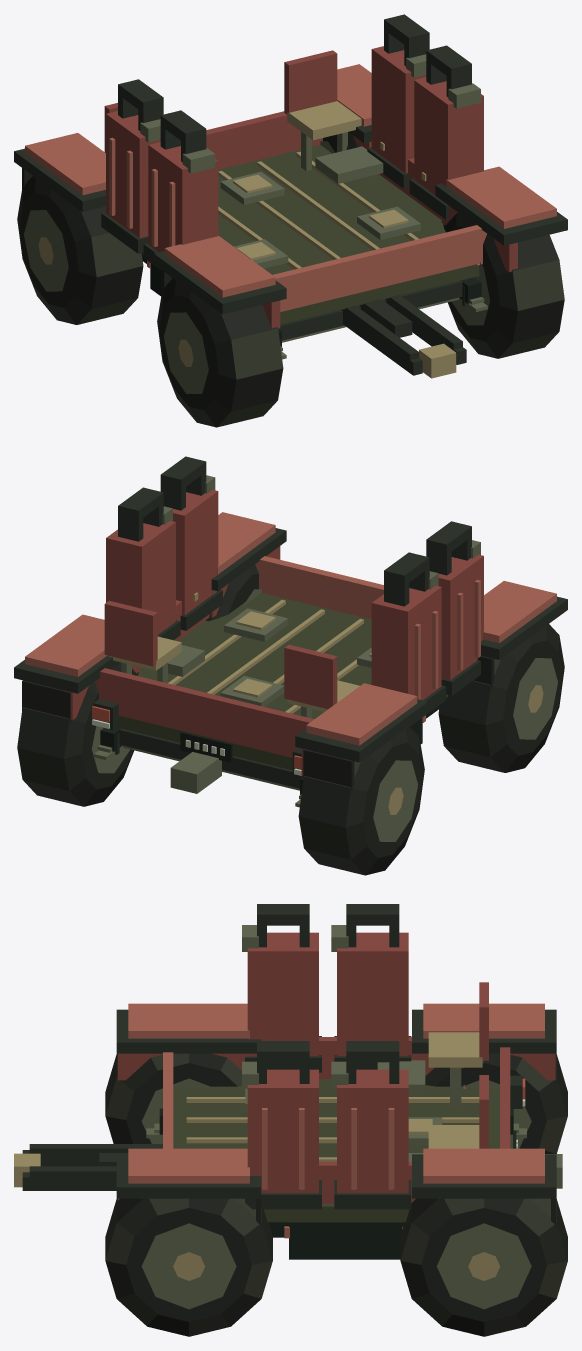
File: military_wagon_fuel.glb
3 renders of one model, top to bottom at view 1: azimuth 30°, elevation 25°; view 2: azimuth 150°, elevation 25°; view 3: azimuth 270°, elevation 25°, orthographic. The views are drawn at different scales.
Parts seen in each view (by area): view 1: WagonDeck.003, WagonDetails_fuel, AllTerrainTire.012, AllTerrainTire.014, AllTerrainTire.013, DrawbarFrame.003; view 2: WagonDeck.003, WagonDetails_fuel, AllTerrainTire.014, AllTerrainTire.012, AllTerrainTire.015, AllTerrainTire.013; view 3: WagonDeck.003, WagonDetails_fuel, AllTerrainTire.015, AllTerrainTire.013, AllTerrainTire.012, AllTerrainTire.014, DrawbarFrame.003.
Boxes of the visible parts, x1=… form: WagonDeck.003: x1=14, y1=50, x2=567, y2=359; WagonDetails_fuel: x1=101, y1=14, x2=483, y2=270; AllTerrainTire.012: x1=157, y1=278, x2=283, y2=427; AllTerrainTire.014: x1=17, y1=176, x2=143, y2=324; AllTerrainTire.013: x1=443, y1=212, x2=564, y2=358; DrawbarFrame.003: x1=343, y1=301, x2=466, y2=378; WagonDeck.003: x1=14, y1=512, x2=567, y2=807; WagonDetails_fuel: x1=106, y1=456, x2=483, y2=726; AllTerrainTire.014: x1=298, y1=726, x2=424, y2=875; AllTerrainTire.012: x1=438, y1=624, x2=564, y2=772; AllTerrainTire.015: x1=17, y1=662, x2=138, y2=806; AllTerrainTire.013: x1=205, y1=564, x2=261, y2=621; WagonDeck.003: x1=29, y1=982, x2=562, y2=1259; WagonDetails_fuel: x1=242, y1=904, x2=411, y2=1209; AllTerrainTire.015: x1=400, y1=1198, x2=567, y2=1336; AllTerrainTire.013: x1=105, y1=1198, x2=272, y2=1336; AllTerrainTire.012: x1=105, y1=1053, x2=241, y2=1143; AllTerrainTire.014: x1=425, y1=1053, x2=567, y2=1153; DrawbarFrame.003: x1=14, y1=1150, x2=116, y2=1190.
Size of the model in its own units: 4.48 by 3.18 by 5.82.
2 materials, 2 textured.
